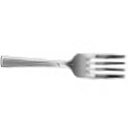Fork: (1, 40, 128, 84)
